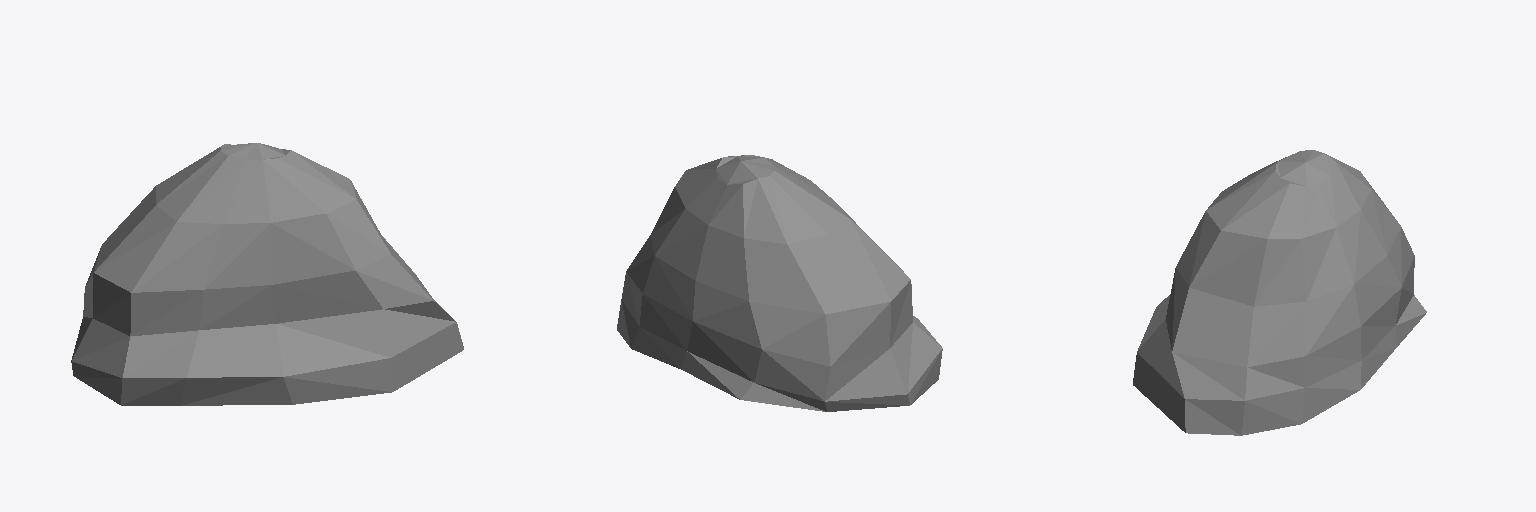
Rendered from Stone-1.obj.
3 renders of one model, left to right at view 1: azimuth 30°, elevation 25°; view 2: azimuth 150°, elevation 25°; view 3: azimuth 270°, elevation 25°, orthographic.
Parts seen in each view (by area): view 1: Stone_1; view 2: Stone_1; view 3: Stone_1.
Boxes of the visible parts, <box> form: Stone_1: <box>71,143,463,405</box>; Stone_1: <box>617,155,942,411</box>; Stone_1: <box>1133,150,1426,435</box>.
Bounding box in the file's own units: 1.63 × 0.9672 × 1.28.